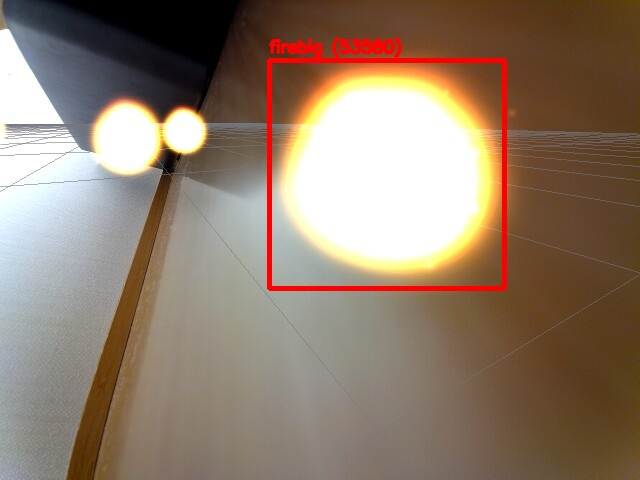firebig: (269, 60, 504, 288)
